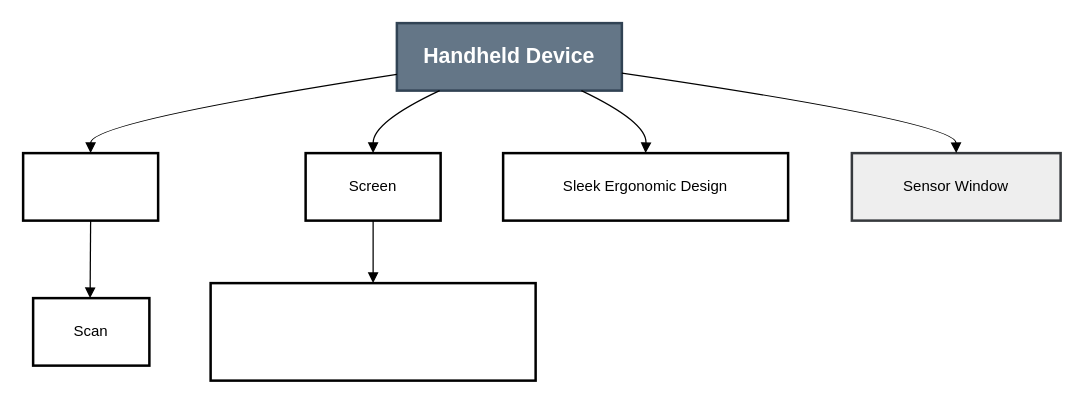
This 1083x403 diagram has some shape labels left out. The centre of each missing label's shape, as x and y in pixels:
"BioScore: 85 (Green), Compost" belongs at [372,331].
"Button" belongs at [90,186].
